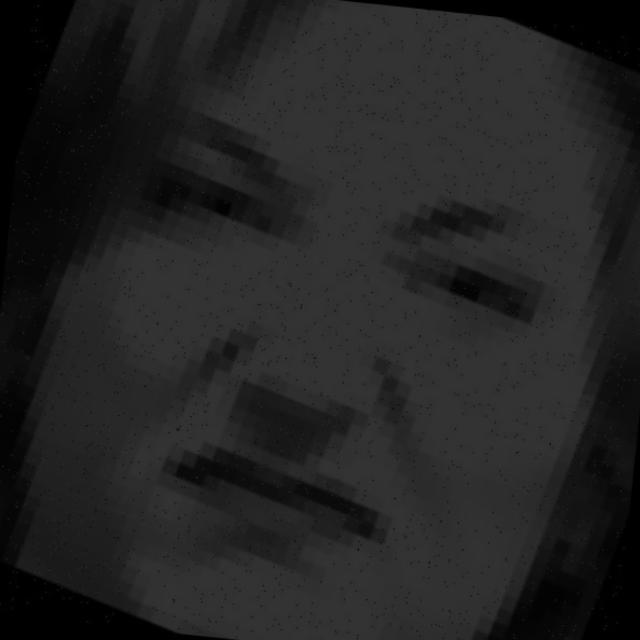Disgust: (76, 45, 614, 609)
